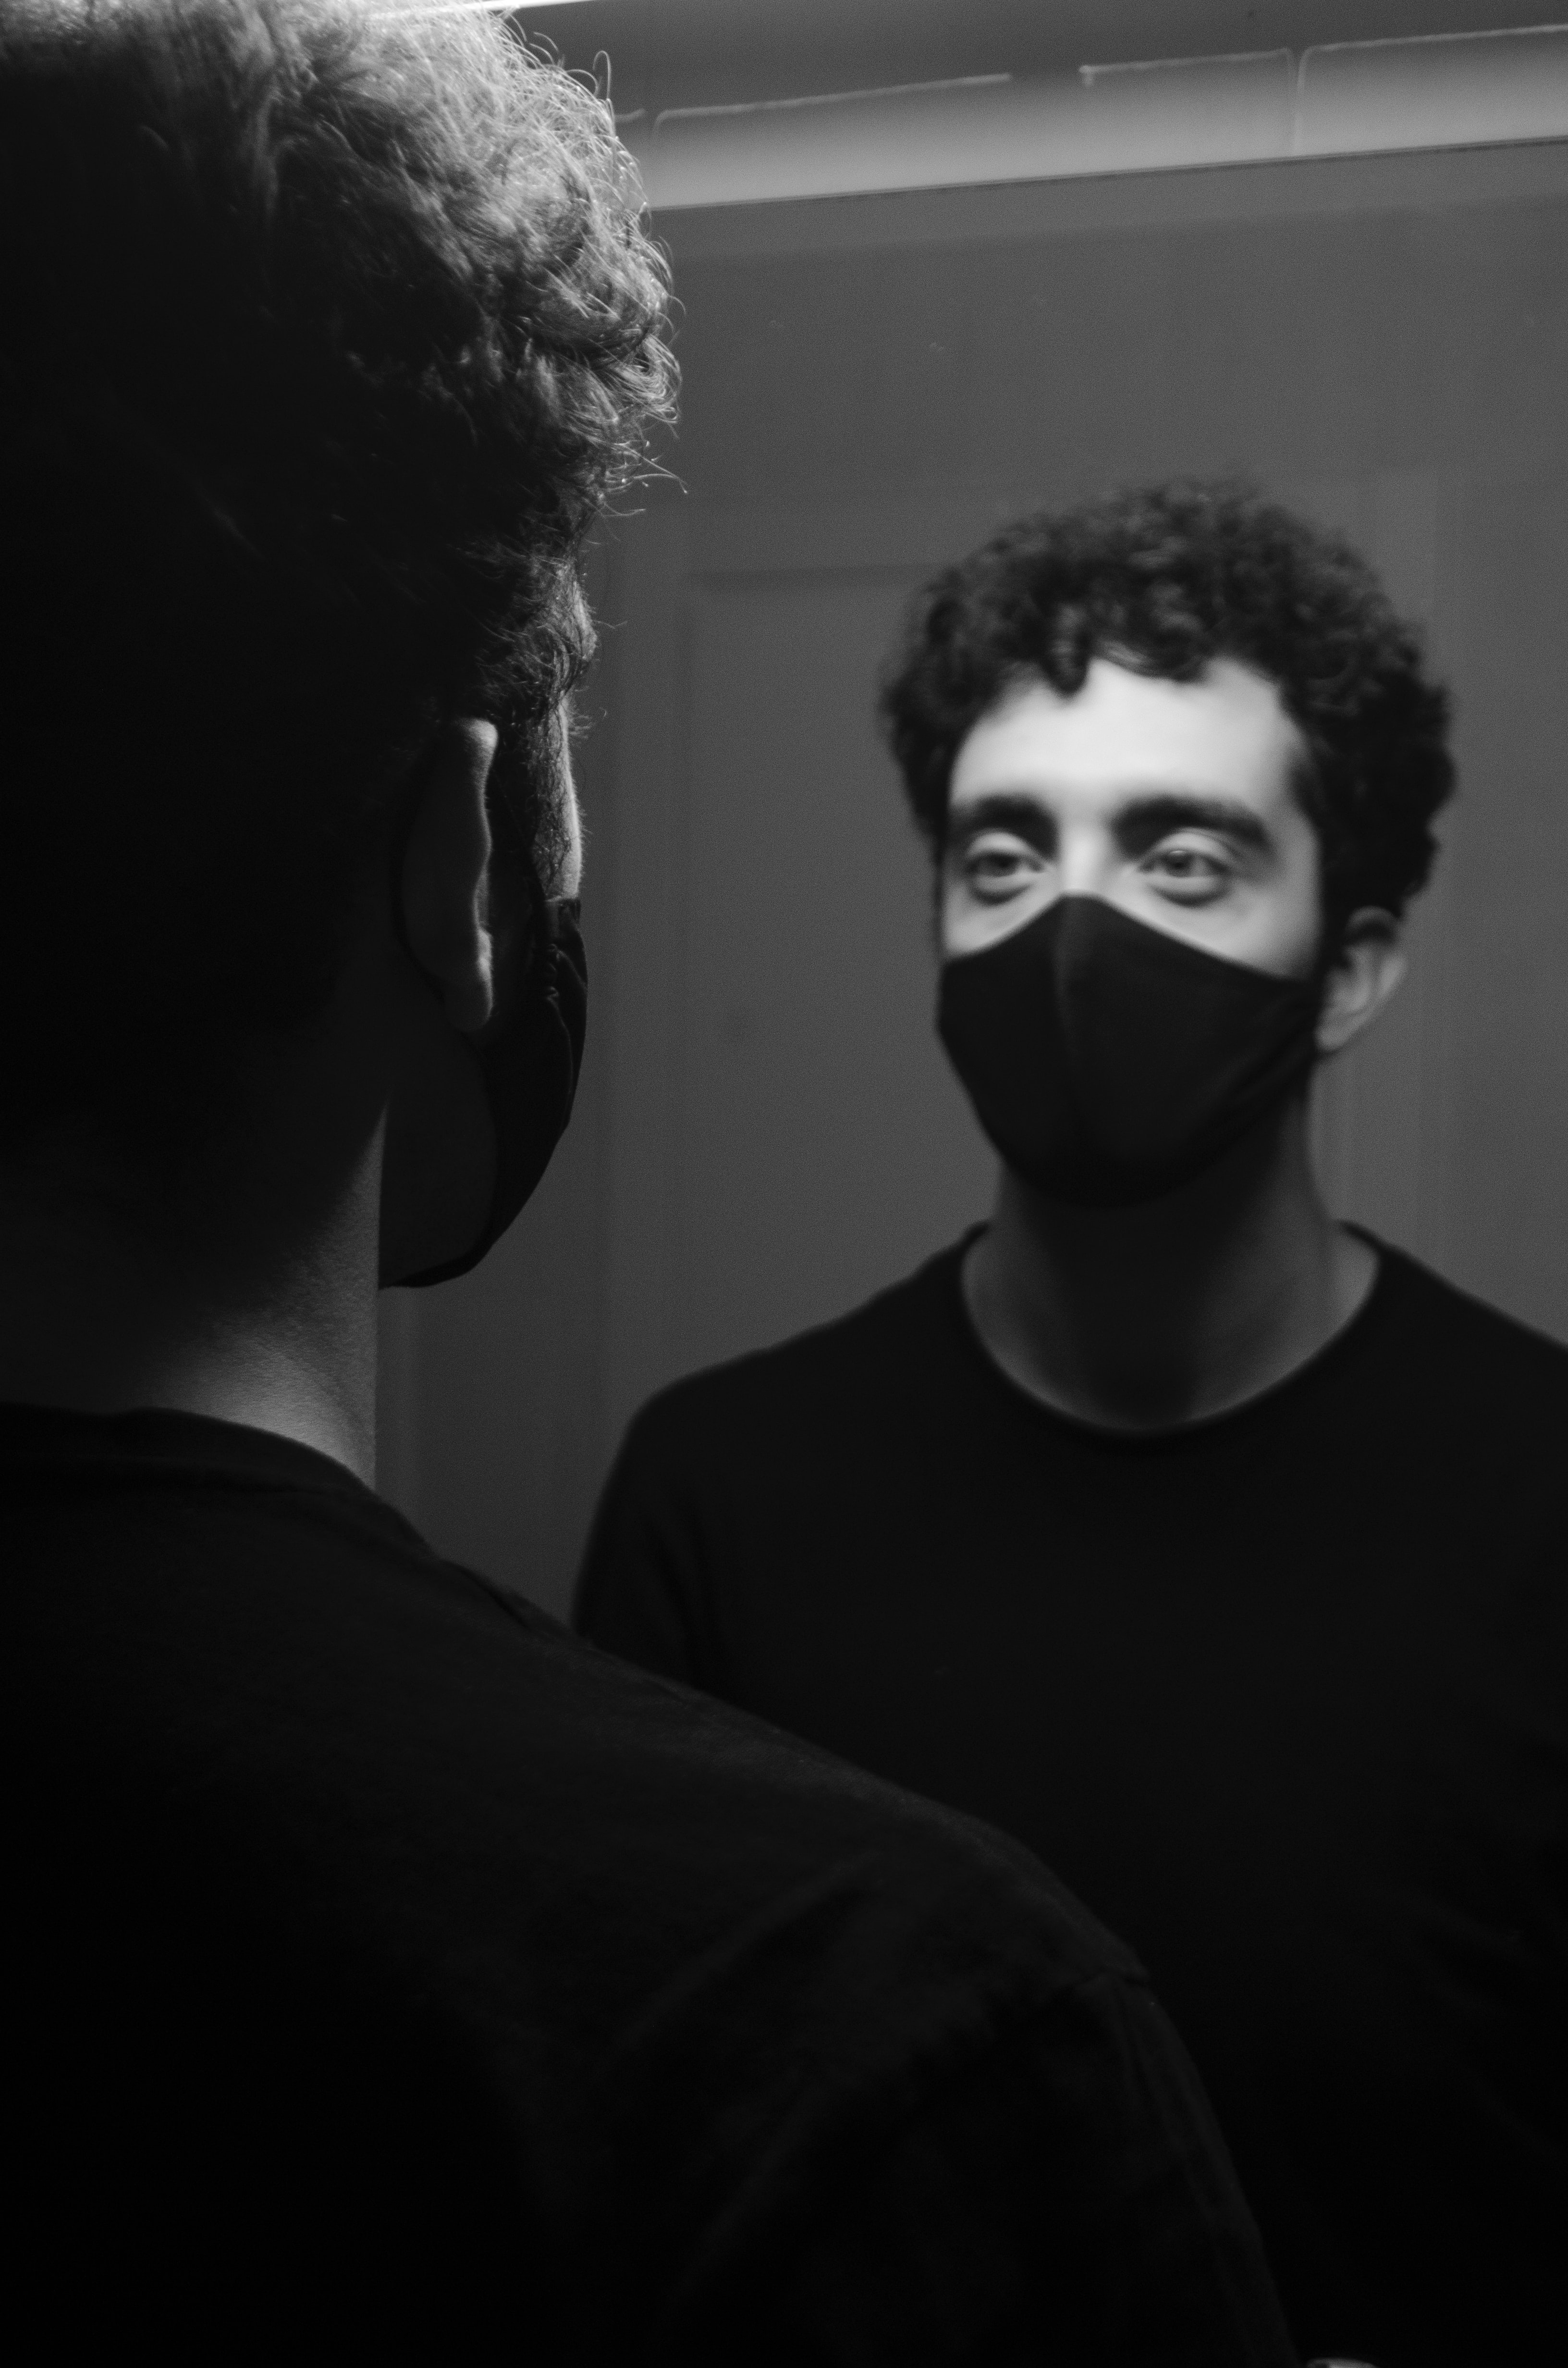mask: (890, 908, 1392, 1273)
person: (600, 445, 1568, 1914)
